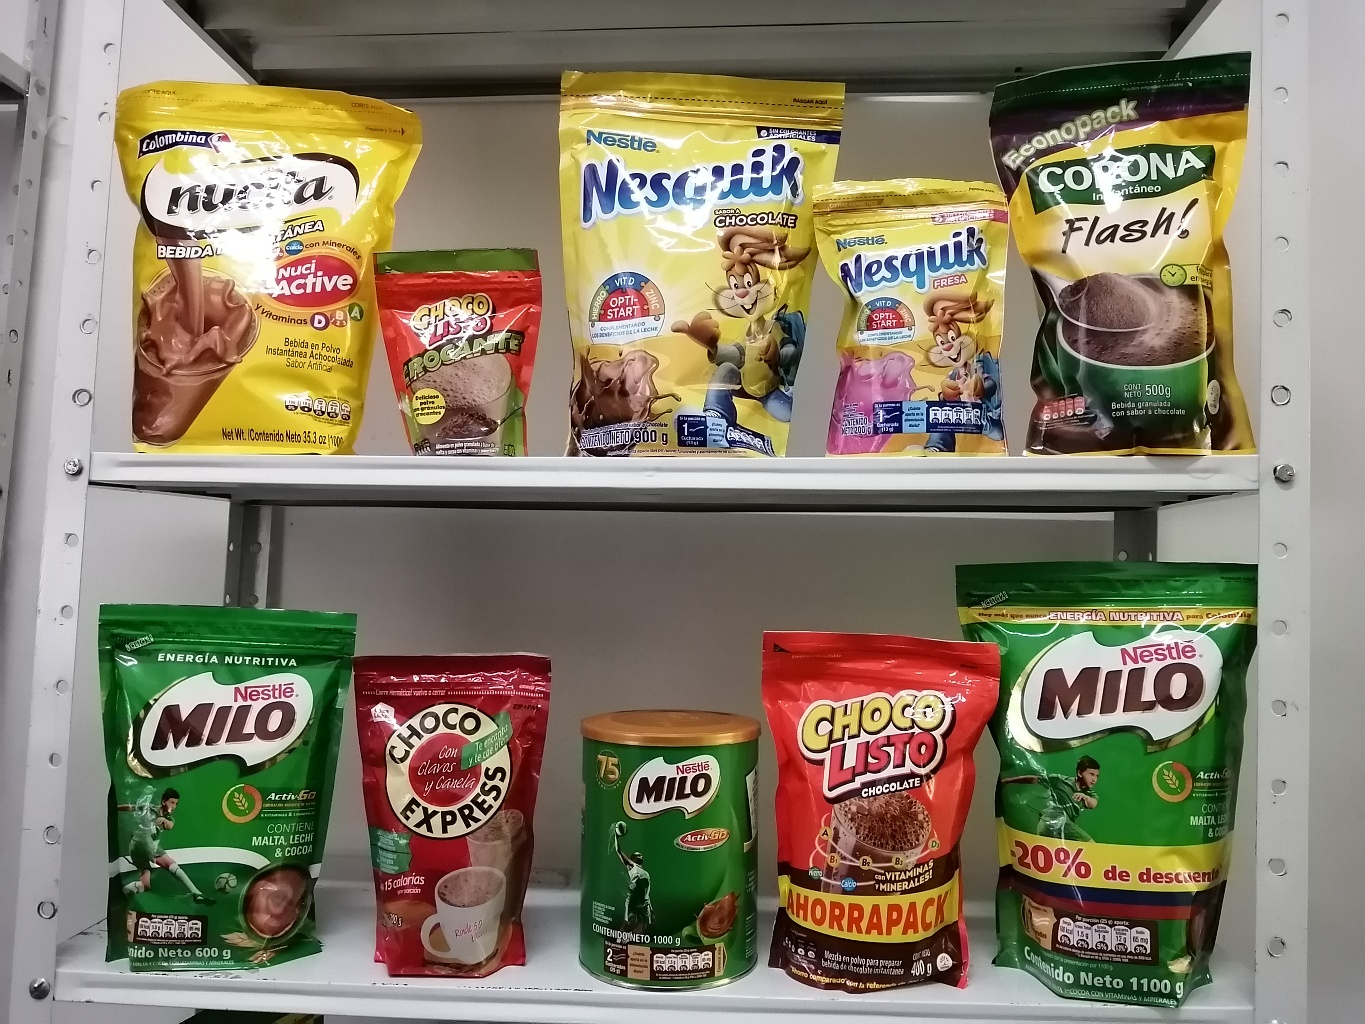COL0170102DYP10000: (364, 237, 548, 463)
COL0170103DYP40000: (765, 618, 1003, 1002)
COL0170305DYP20000: (824, 170, 1023, 460)
